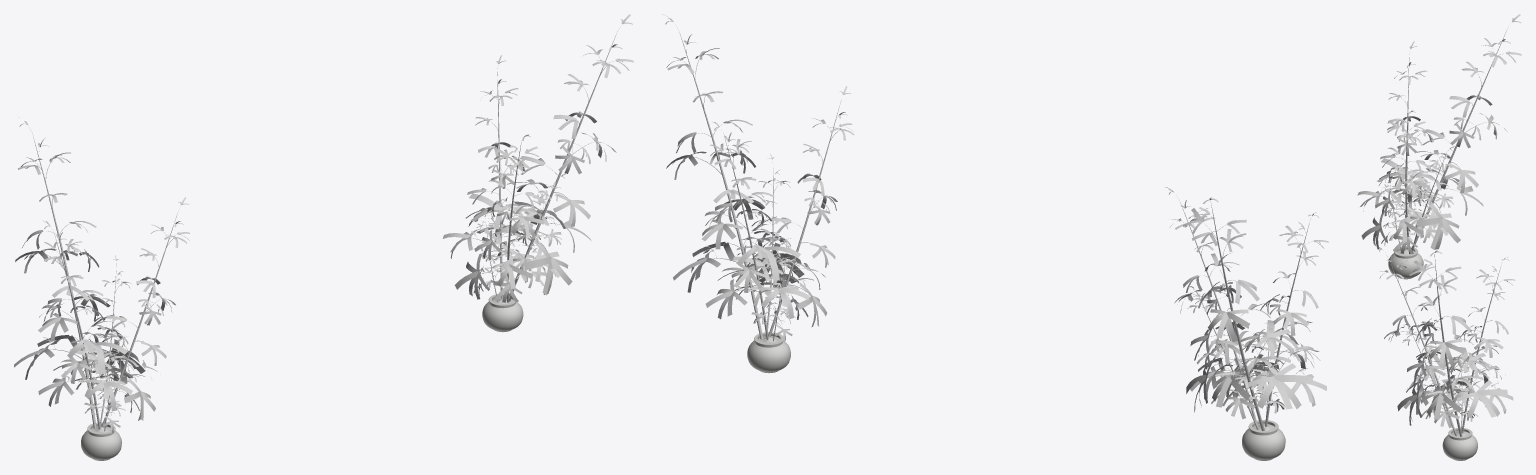
Rendered from LargePots.FBX.
The picture shows the model from 3 angles, left to right: view 1: azimuth 30°, elevation 25°; view 2: azimuth 150°, elevation 25°; view 3: azimuth 270°, elevation 25°; orthographic projection. The views are drawn at different scales.
Parts seen in each view (by area): view 1: LargePots (×2); view 2: LargePots (×2); view 3: LargePots (×2).
Boxes of the visible parts, x1,y1,x2,y2 form: LargePots (×2): (14, 14, 633, 460); LargePots (×2): (662, 14, 1328, 460); LargePots (×2): (1357, 14, 1521, 460).
Bounding box in the file's own units: 25.98 × 12.1 × 7.1.
